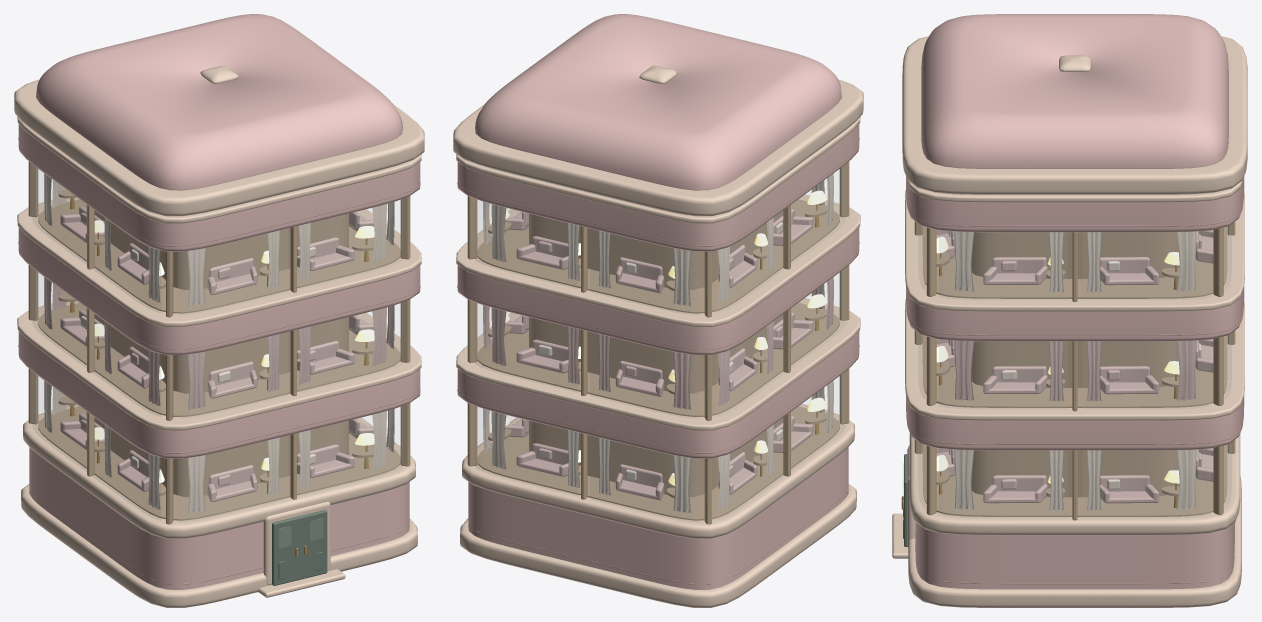
File: central-square-v68.glb
The picture shows the model from 3 angles, left to right: view 1: azimuth 30°, elevation 25°; view 2: azimuth 150°, elevation 25°; view 3: azimuth 270°, elevation 25°; orthographic projection. The views are drawn at different scales.
Visible parts, largest first — view 1: arch59_blush, room59_glass_sage, arch59_pillow_trim, room59_warm_backing, room59_curtain_blush, room59_curtain_ivory, arch59_champagne_frame, Sage painted joinery, Soft blush architectural joints, room59_lamp_glow, Brushed brass; view 2: arch59_blush, room59_glass_sage, arch59_pillow_trim, room59_warm_backing, room59_curtain_blush, room59_curtain_ivory, arch59_champagne_frame, Soft blush architectural joints, room59_lamp_glow; view 3: arch59_blush, room59_glass_sage, arch59_pillow_trim, room59_warm_backing, room59_curtain_blush, room59_curtain_ivory, arch59_champagne_frame, Soft blush architectural joints, room59_lamp_glow.
Boxes of the visible parts, bbox=[...] form: arch59_blush: bbox=[18, 14, 420, 589]; room59_glass_sage: bbox=[32, 165, 401, 548]; arch59_pillow_trim: bbox=[14, 65, 424, 607]; room59_warm_backing: bbox=[38, 189, 400, 520]; room59_curtain_blush: bbox=[44, 206, 394, 501]; room59_curtain_ivory: bbox=[44, 173, 394, 513]; arch59_champagne_frame: bbox=[28, 161, 410, 524]; Sage painted joinery: bbox=[272, 510, 327, 585]; Soft blush architectural joints: bbox=[18, 138, 420, 584]; room59_lamp_glow: bbox=[94, 220, 374, 483]; Brushed brass: bbox=[70, 198, 368, 556]; arch59_blush: bbox=[457, 14, 859, 589]; room59_glass_sage: bbox=[476, 165, 845, 521]; arch59_pillow_trim: bbox=[453, 65, 863, 607]; room59_warm_backing: bbox=[477, 199, 839, 520]; room59_curtain_blush: bbox=[483, 209, 833, 500]; room59_curtain_ivory: bbox=[483, 173, 833, 513]; arch59_champagne_frame: bbox=[467, 161, 849, 524]; Soft blush architectural joints: bbox=[457, 138, 859, 584]; room59_lamp_glow: bbox=[490, 190, 826, 485]; arch59_blush: bbox=[906, 14, 1243, 589]; room59_glass_sage: bbox=[903, 224, 1231, 517]; arch59_pillow_trim: bbox=[892, 36, 1247, 607]; room59_warm_backing: bbox=[922, 226, 1227, 516]; room59_curtain_blush: bbox=[936, 230, 1213, 503]; room59_curtain_ivory: bbox=[948, 231, 1201, 510]; arch59_champagne_frame: bbox=[914, 221, 1235, 520]; Soft blush architectural joints: bbox=[906, 177, 1244, 584]; room59_lamp_glow: bbox=[936, 236, 1179, 483].
Bounding box in the file's own units: 9.38 × 14.4 × 9.66.
